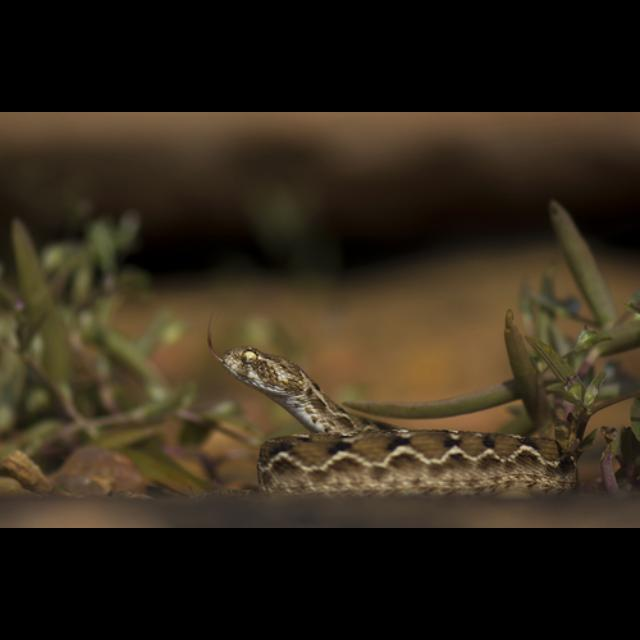snake: (198, 309, 580, 496)
